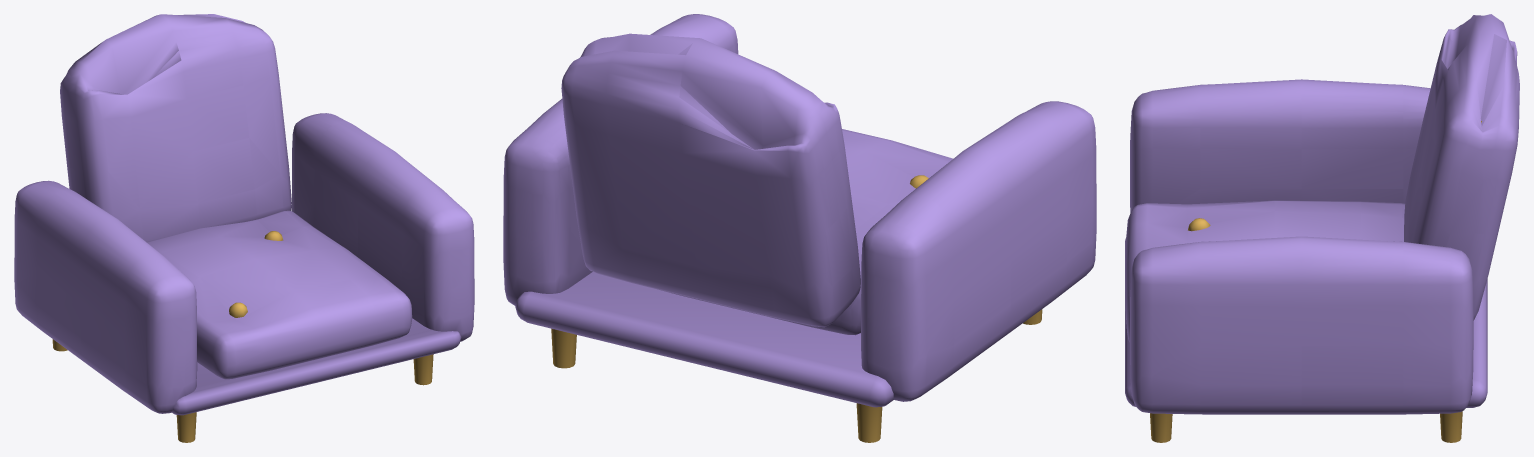
The model's file is armchair-lilac.glb.
The picture shows the model from 3 angles, left to right: view 1: azimuth 30°, elevation 25°; view 2: azimuth 150°, elevation 25°; view 3: azimuth 270°, elevation 25°; orthographic projection. The views are drawn at different scales.
Visible parts, largest first — view 1: armchair-lilac; view 2: armchair-lilac; view 3: armchair-lilac.
Boxes of the visible parts, <box> form: armchair-lilac: <box>14,14,474,442</box>; armchair-lilac: <box>503,14,1096,442</box>; armchair-lilac: <box>1125,14,1519,442</box>.
Bounding box in the file's own units: 0.9689 × 0.8229 × 0.8715.
